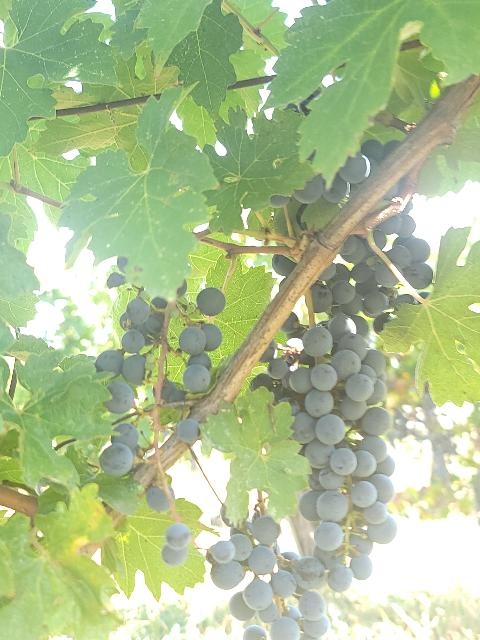grapes: (268, 314, 396, 591), (208, 514, 330, 640), (95, 298, 170, 415), (310, 235, 400, 319), (156, 321, 222, 402), (374, 214, 432, 290), (99, 422, 140, 476), (196, 288, 226, 319), (145, 486, 171, 511), (176, 419, 200, 445)
